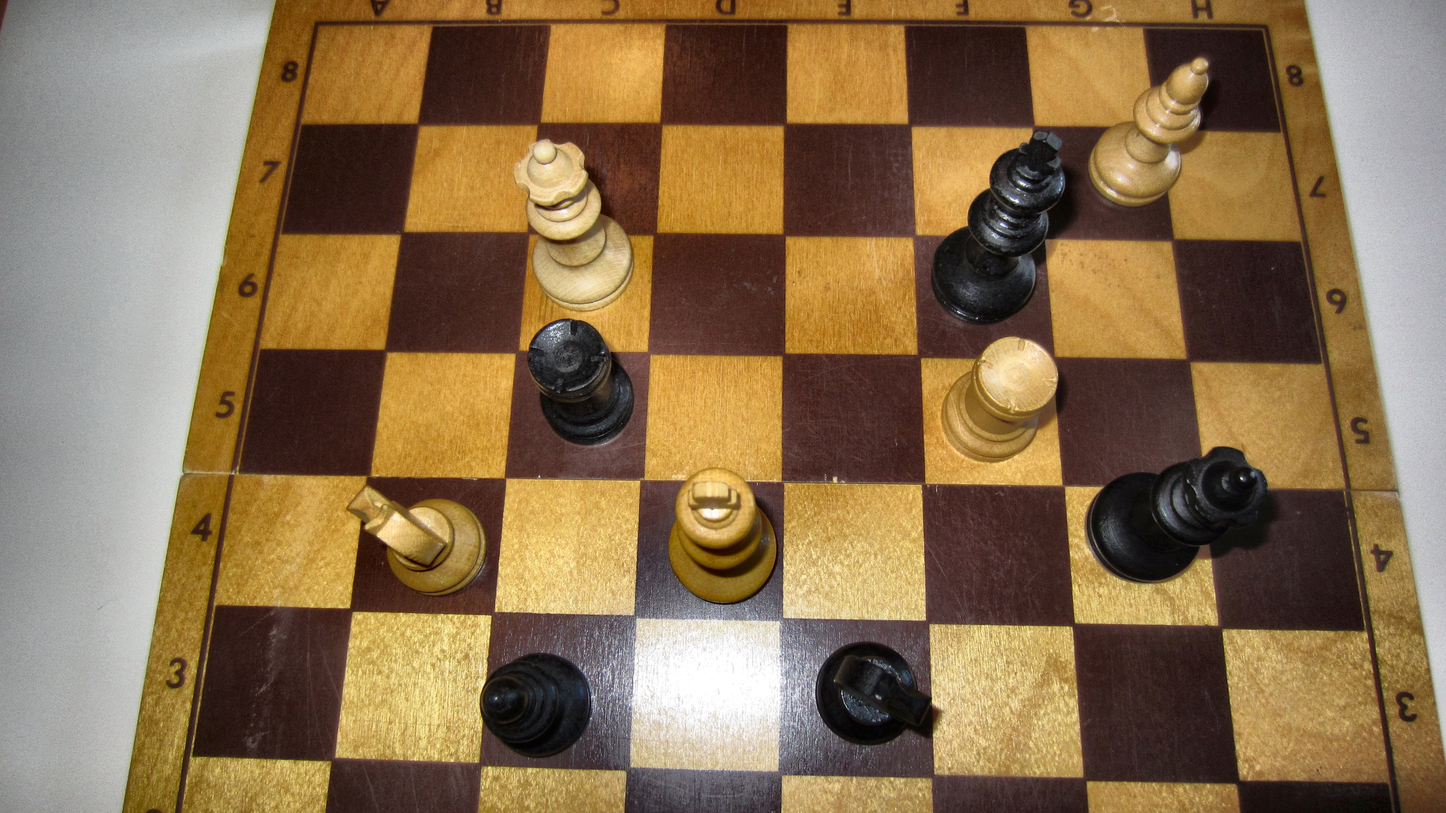black-bishop: (479, 651, 591, 759)
black-king: (930, 129, 1068, 327)
black-queen: (1082, 444, 1274, 586)
black-rook: (526, 318, 636, 446)
white-bishop: (1087, 56, 1211, 207)
white-king: (667, 465, 780, 606)
white-knight: (345, 483, 488, 598), (814, 640, 934, 746)
white-queen: (510, 137, 637, 311)
white-rook: (938, 335, 1059, 464)
